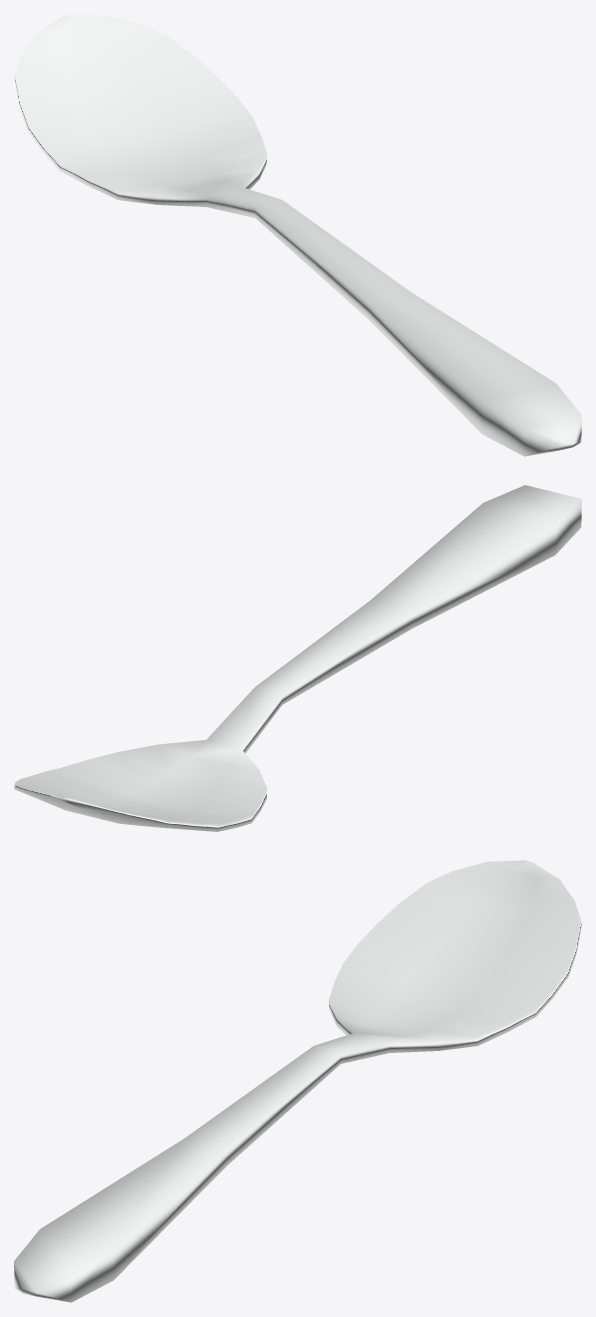
Rendered from spoon.fbx.
3 views of the same model, one above another, from view 1: azimuth 30°, elevation 25°; view 2: azimuth 150°, elevation 25°; view 3: azimuth 330°, elevation 25° (orthographic).
Parts seen in each view (by area): view 1: spoon; view 2: spoon; view 3: spoon.
Part boxes in pixels (<box>): spoon: <box>14,14,581,456</box>; spoon: <box>14,485,581,831</box>; spoon: <box>14,860,581,1302</box>.
Bounding box in the file's own units: 0.0585 × 0.0239 × 0.2614.
